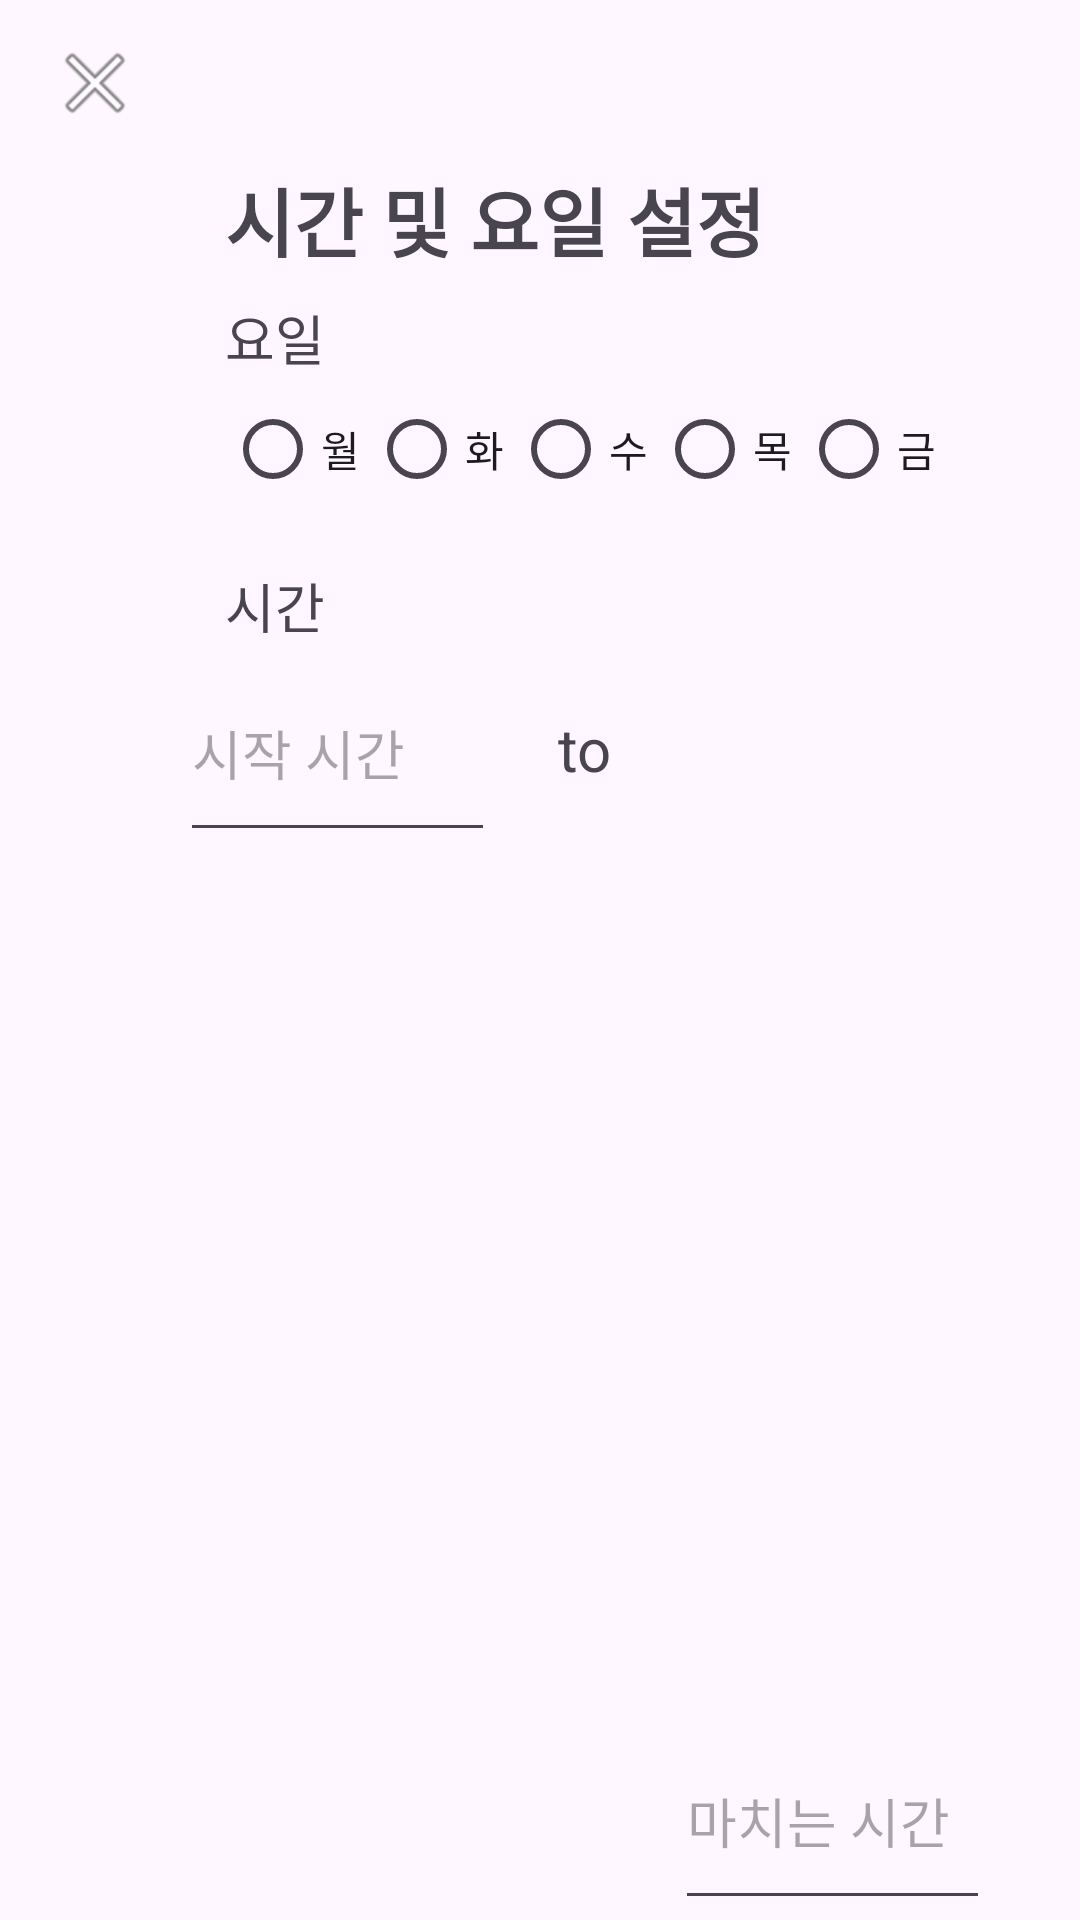

Icons on this 1080 x 1920 Android screen, each with the point to tap as [x,y]:
취소: [95,83]
